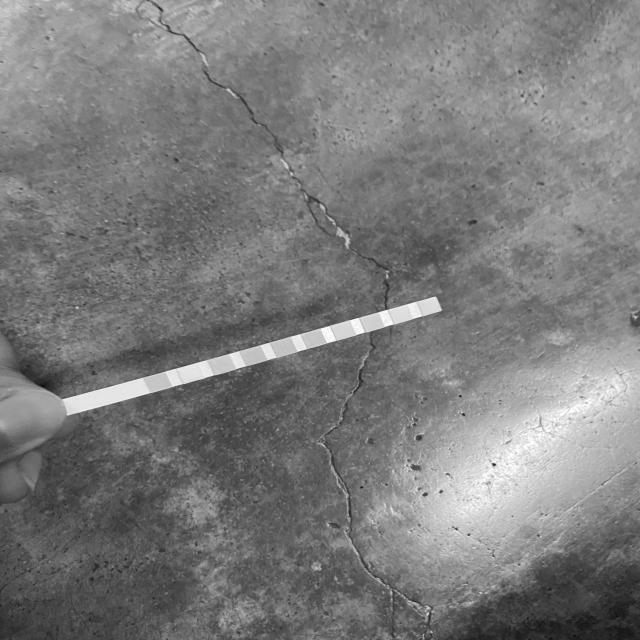Bilirubin: (182, 367, 200, 379)
Blood: (276, 341, 292, 354)
Glucose: (150, 376, 167, 389)
Ketone: (213, 358, 230, 372)
Leukocytes: (424, 300, 436, 312)
Nitrite: (394, 308, 407, 320)
Protein: (336, 324, 351, 337)
SpGravity: (246, 349, 262, 362)
Urobilinogen: (366, 316, 380, 329)
background: (0, 0, 640, 640)
pH: (306, 333, 322, 345)
strip: (65, 296, 443, 414)
